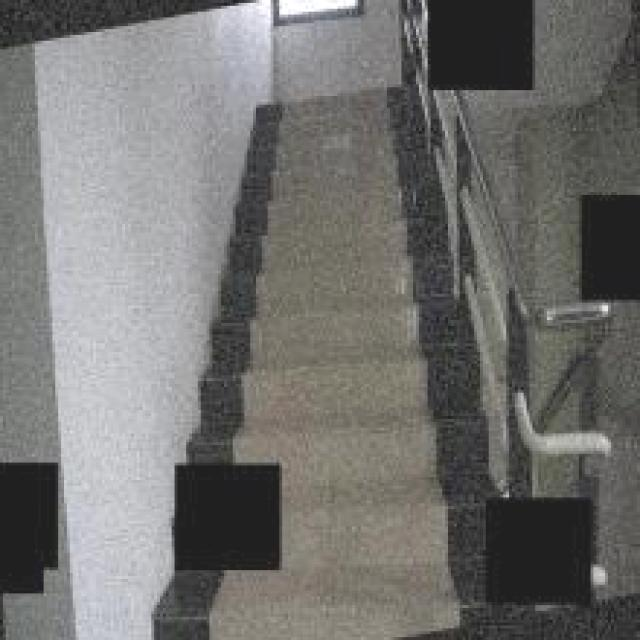upstair: (187, 97, 493, 446)
